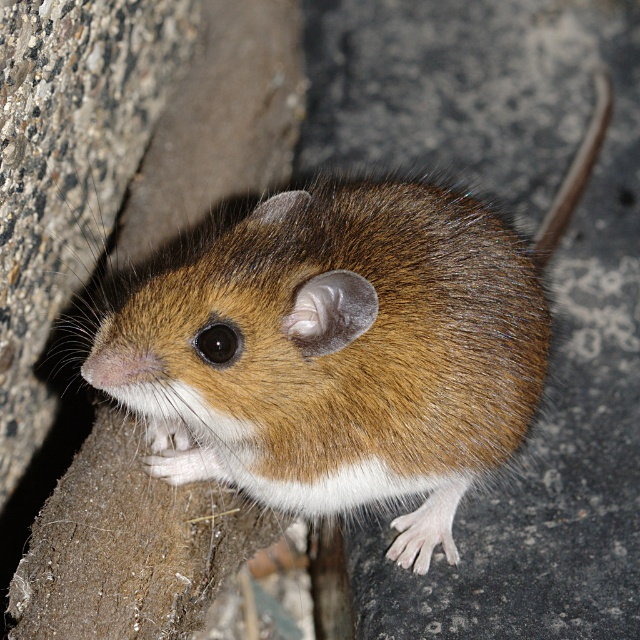Mouse: (13, 70, 612, 575)
